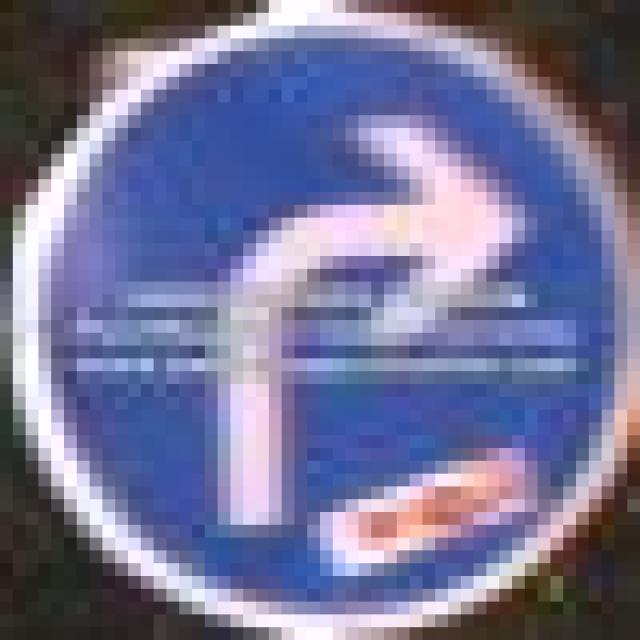TURN_RIGHT: (51, 13, 602, 589)
